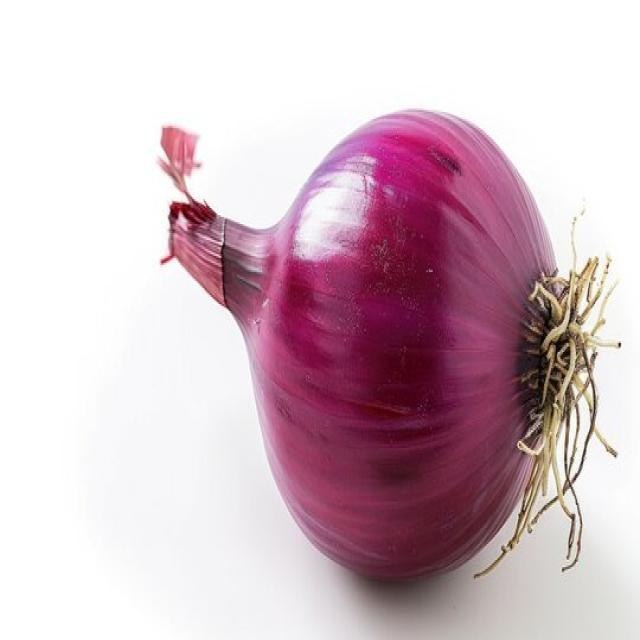Onion: (149, 106, 613, 584)
